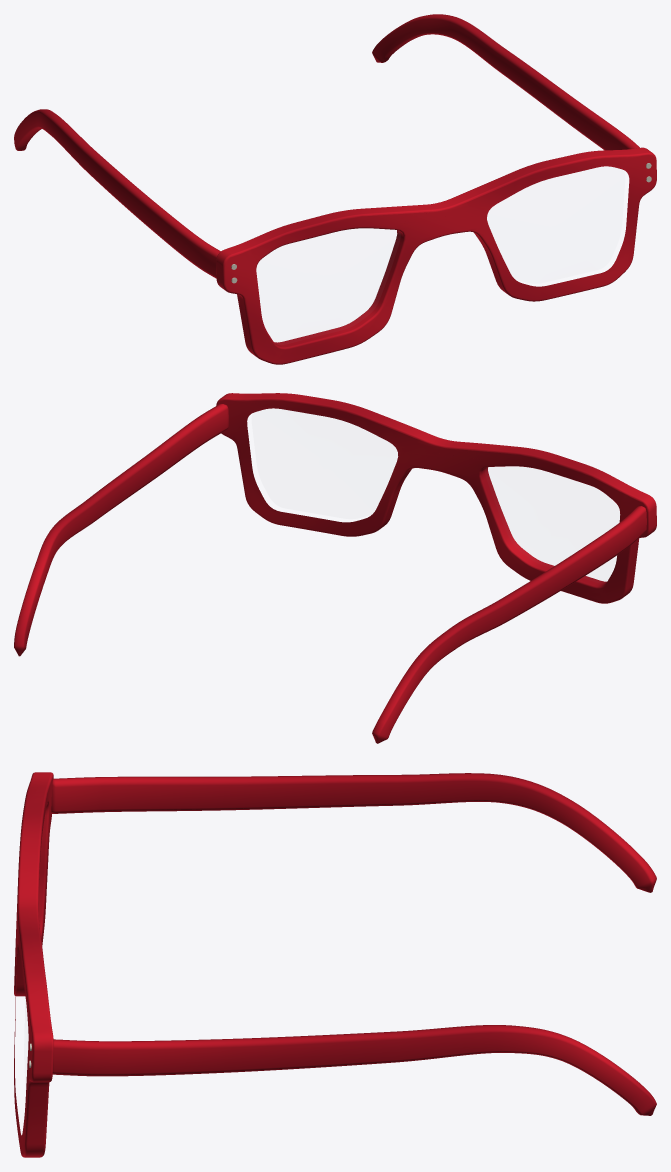
File: 209833300-red.glb
The picture shows the model from 3 angles, top to bottom: view 1: azimuth 30°, elevation 25°; view 2: azimuth 150°, elevation 25°; view 3: azimuth 270°, elevation 25°; orthographic projection. The views are drawn at different scales.
Parts seen in each view (by area): view 1: frame_front, temple_positive_x, temple_negative_x; view 2: frame_front, temple_negative_x, temple_positive_x; view 3: temple_negative_x, temple_positive_x, frame_front.
Part boxes in pixels (x1=…): frame_front: x1=216, y1=147, x2=656, y2=364; temple_positive_x: x1=372, y1=14, x2=639, y2=150; temple_negative_x: x1=14, y1=109, x2=220, y2=278; frame_front: x1=216, y1=393, x2=656, y2=603; temple_negative_x: x1=372, y1=506, x2=646, y2=743; temple_positive_x: x1=14, y1=404, x2=228, y2=656; temple_negative_x: x1=51, y1=773, x2=656, y2=892; temple_positive_x: x1=52, y1=1025, x2=656, y2=1115; frame_front: x1=14, y1=772, x2=53, y2=1157.
Bounding box in the file's own units: 0.1434 × 0.0418 × 0.144.
